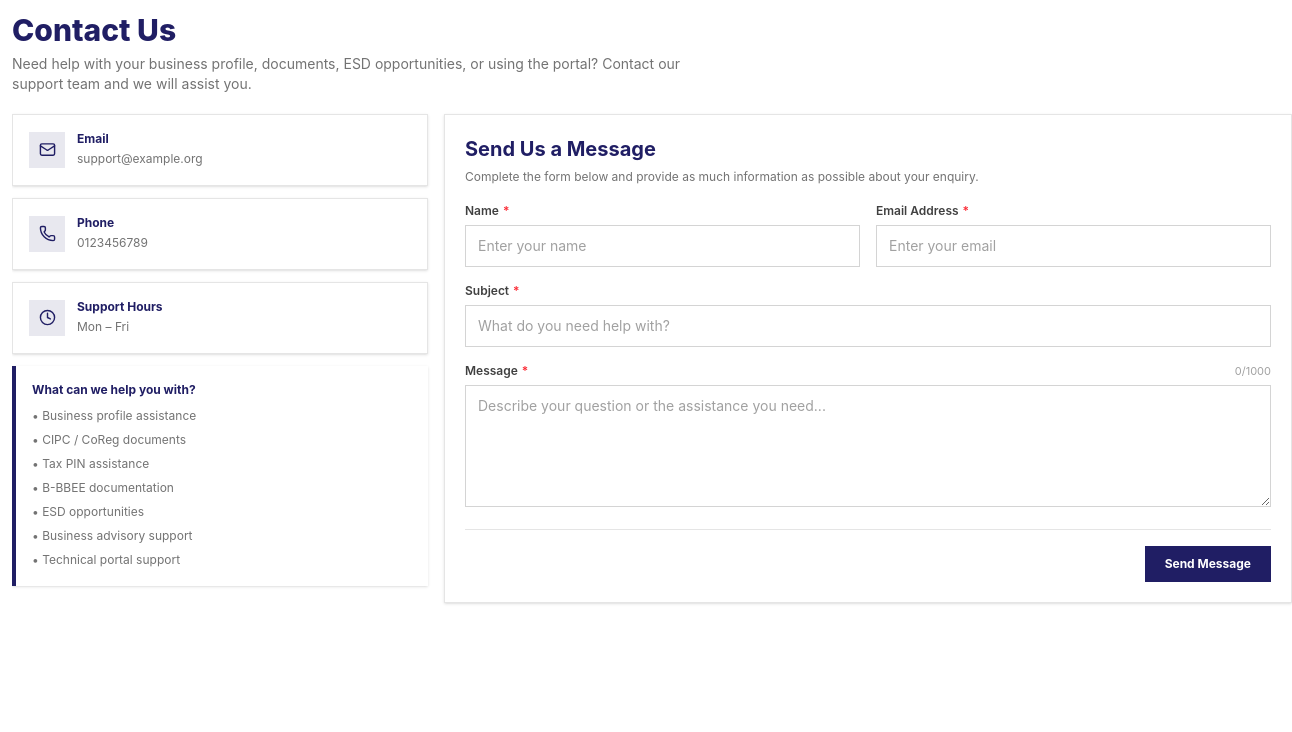
Test: ContactUsScreen › shows a loading state while submitting and blocks double submits
In the field labelled "Name*": (662, 246) x1=465 y1=224 x2=860 y2=266, type "Jane Doe"
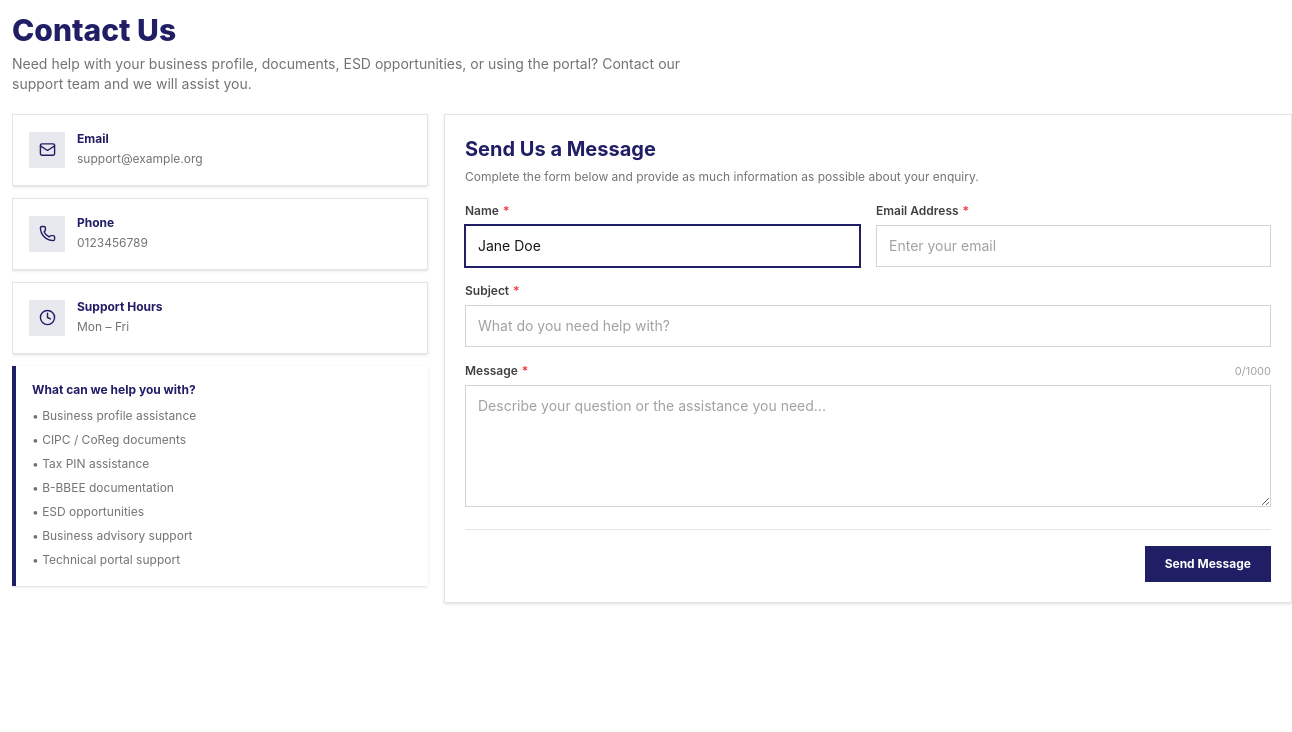
In the field labelled "Email Address*": (1074, 246) x1=876 y1=224 x2=1271 y2=266, type "jane@example.com"
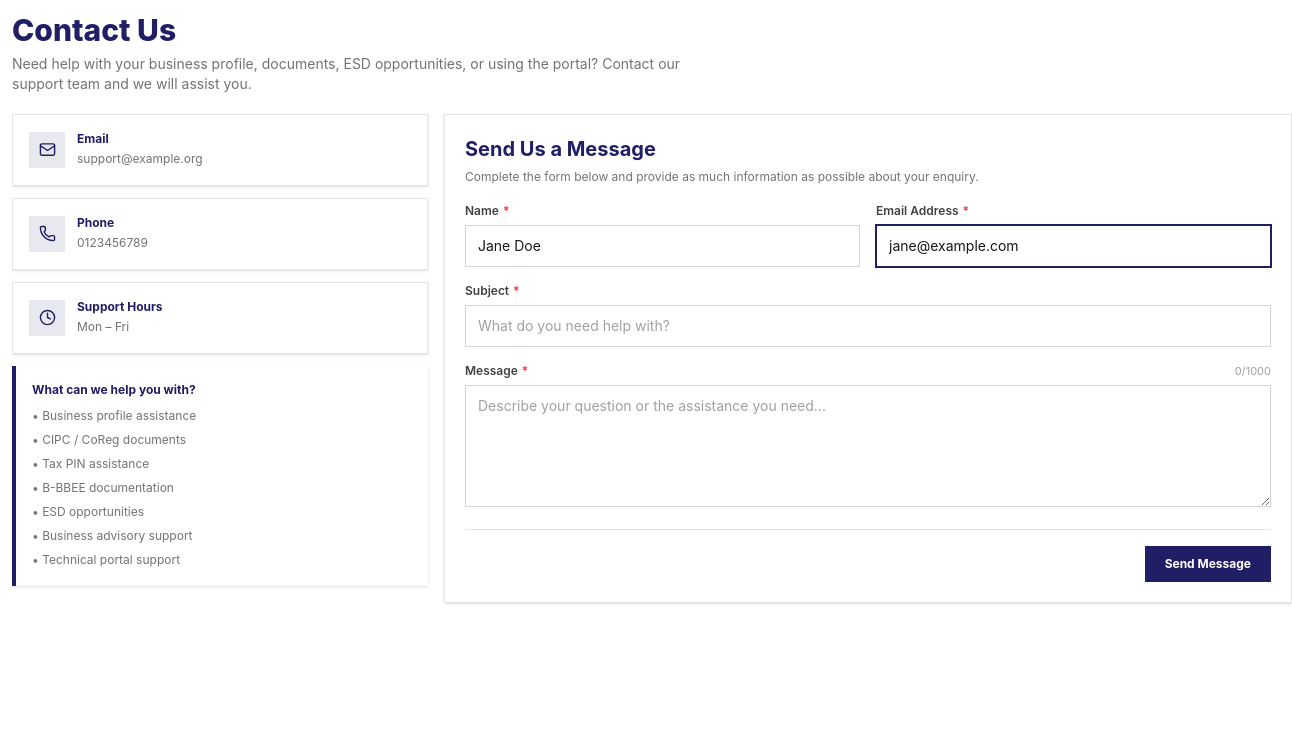
In the field labelled "Subject*": (868, 326) x1=465 y1=304 x2=1271 y2=346, type "Tax PIN help"
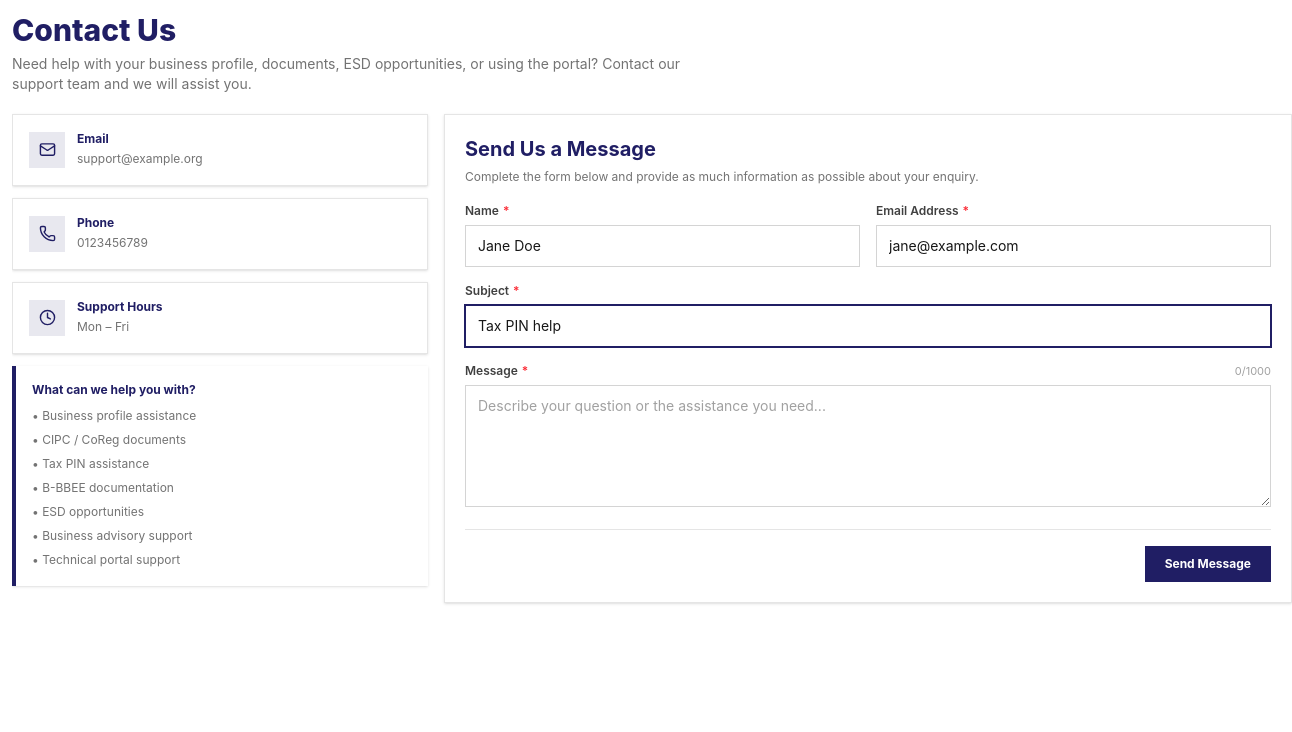
In the text box labelled "Message*": (868, 446) x1=465 y1=385 x2=1271 y2=507, type "I need help please"
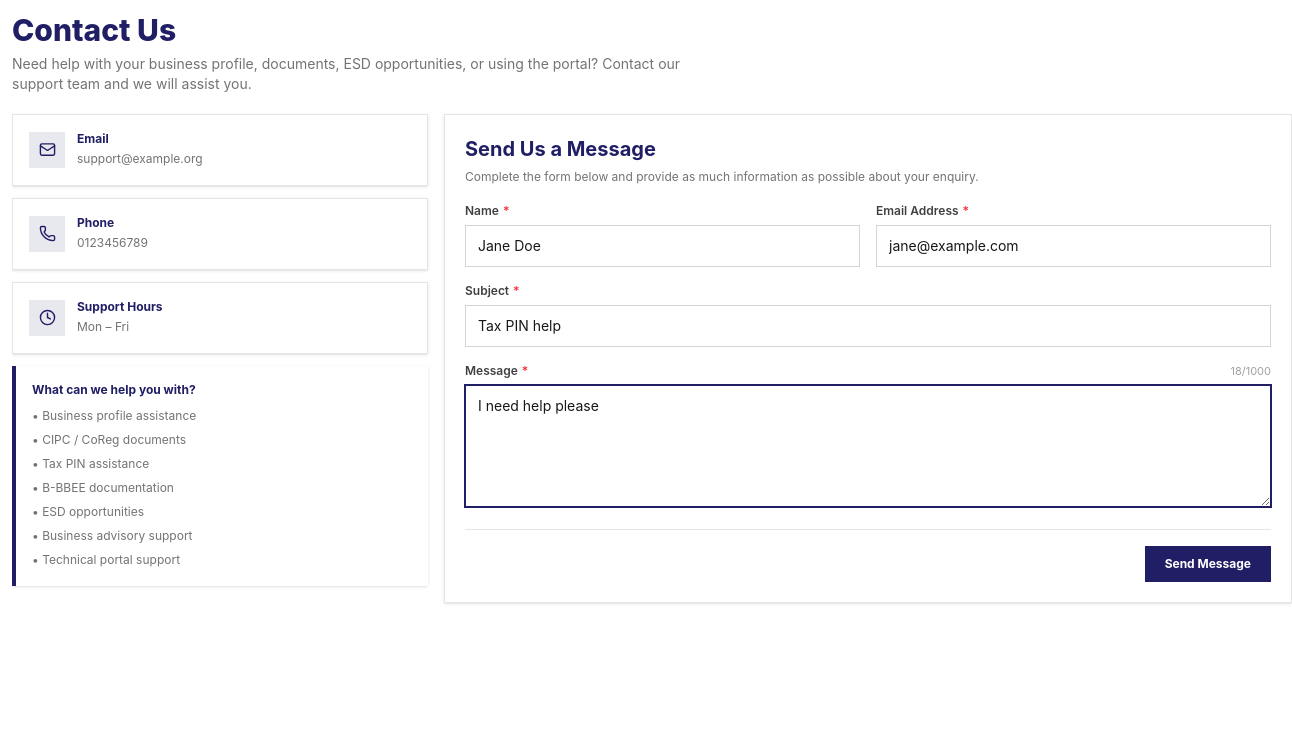
Click the button "Send Message": (1208, 564) x1=1145 y1=546 x2=1271 y2=582
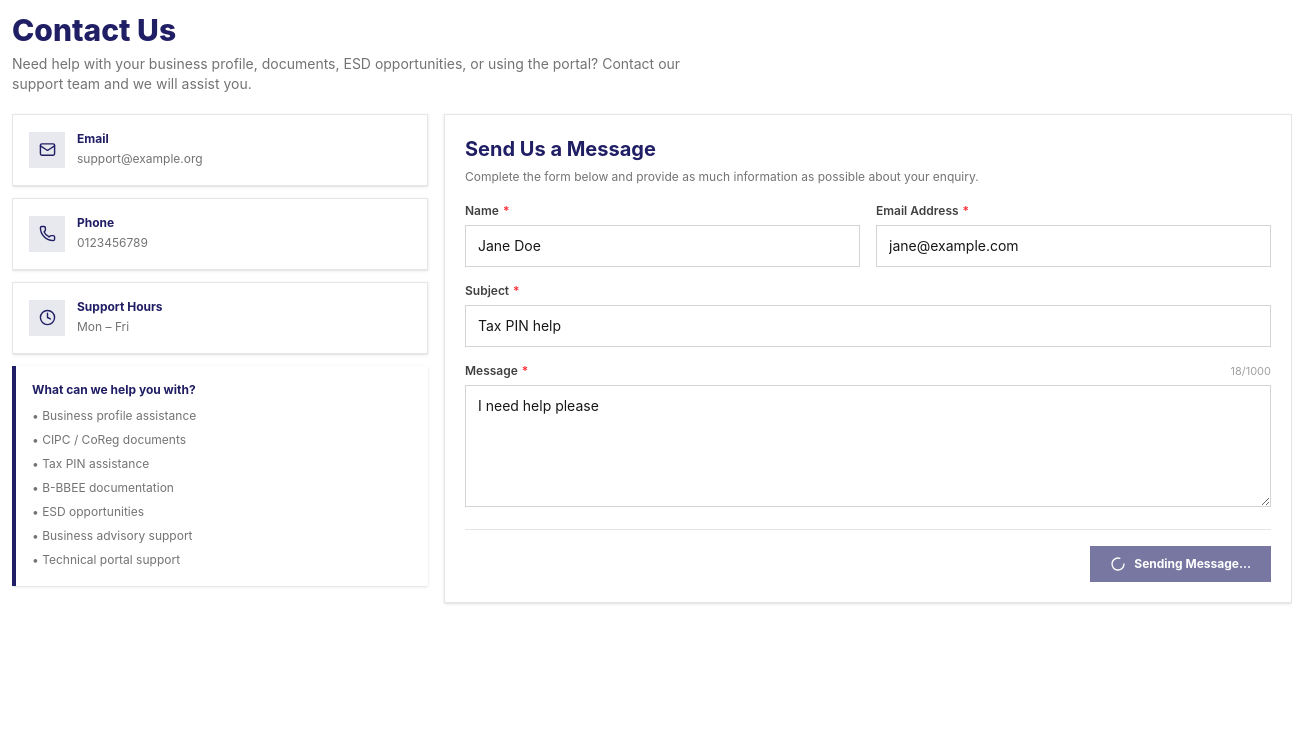
Expected: the field labelled "Name*" is disabled, x1=465 y1=224 x2=860 y2=266
Expected: the button "Sending Message..." is disabled
Click the button "Sending Message...": (1181, 564) x1=1090 y1=546 x2=1271 y2=582
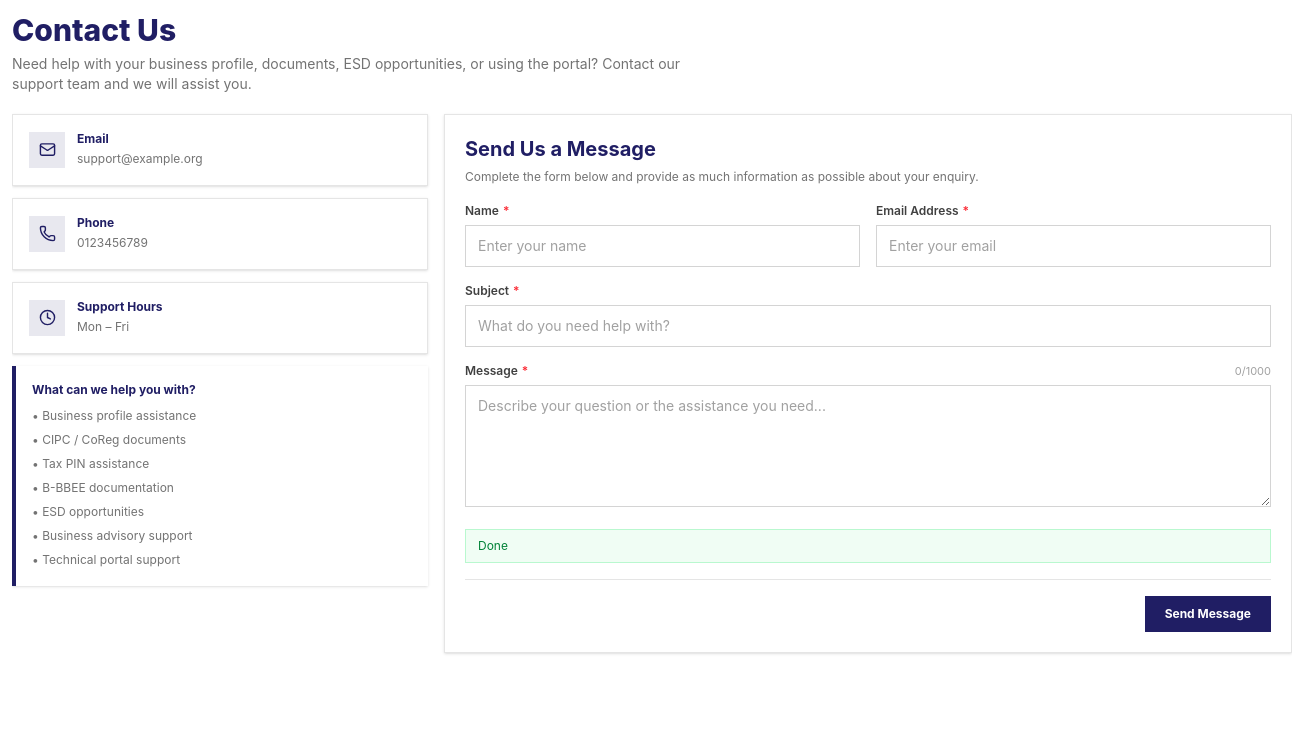
Expected: the message reads "Done", x1=478 y1=538 x2=508 y2=553
Expected: the button "Send Message" is enabled, x1=1145 y1=596 x2=1271 y2=632
